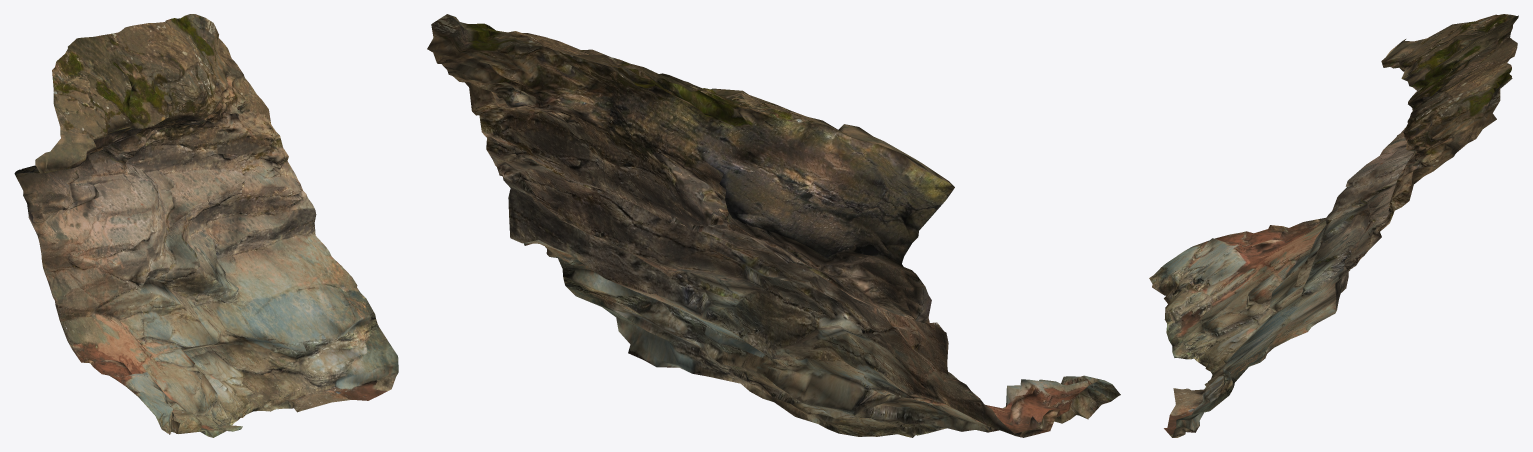
File: mountain-rock.glb
The picture shows the model from 3 angles, left to right: view 1: azimuth 30°, elevation 25°; view 2: azimuth 150°, elevation 25°; view 3: azimuth 270°, elevation 25°; orthographic projection. The views are drawn at different scales.
Parts seen in each view (by area): view 1: rock_face_01; view 2: rock_face_01; view 3: rock_face_01.
Part boxes in pixels (x1=…): rock_face_01: x1=14, y1=14, x2=398, y2=437; rock_face_01: x1=427, y1=14, x2=1120, y2=437; rock_face_01: x1=1149, y1=14, x2=1518, y2=437.
Size of the model in its own units: 0.9963 by 0.9997 by 0.9983.
Materials: 1 (1 with a texture image).
